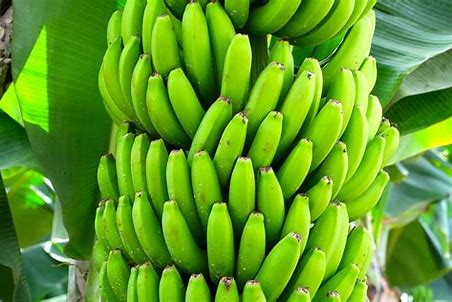inorganic: (3, 3, 446, 296)
